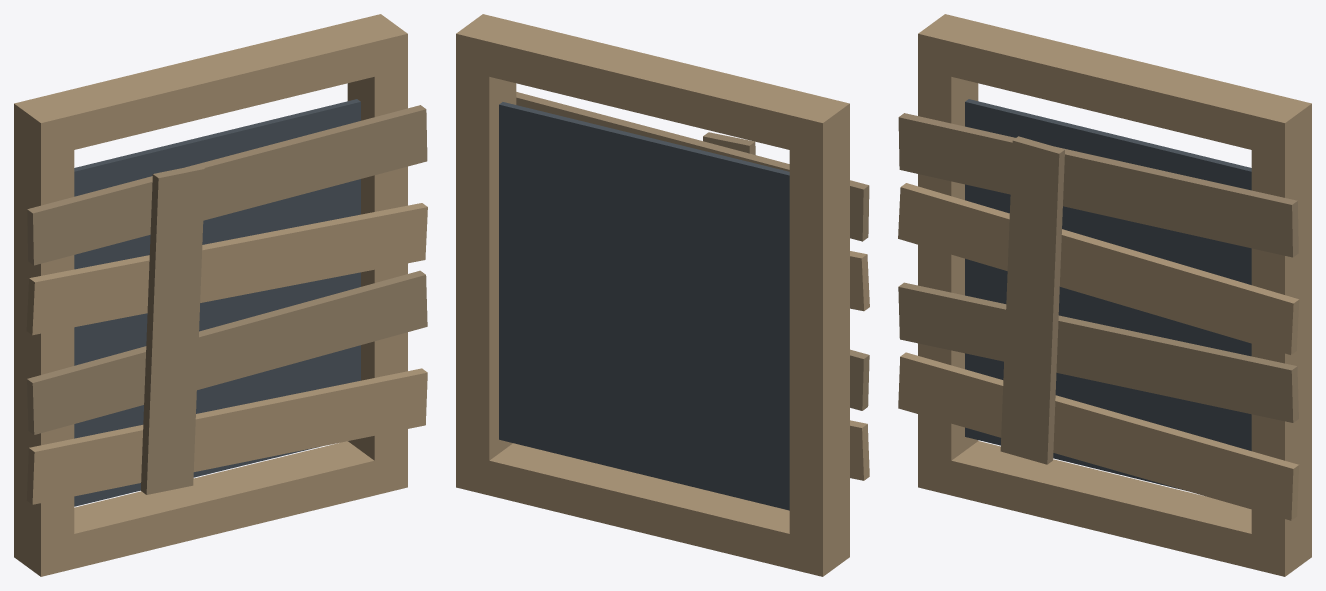
The model's file is dm_boardedwindow.glb.
3 renders of one model, left to right at view 1: azimuth 30°, elevation 25°; view 2: azimuth 150°, elevation 25°; view 3: azimuth 330°, elevation 25°, orthographic.
Visible parts, largest first — view 1: dm_boardedwindow; view 2: dm_boardedwindow; view 3: dm_boardedwindow.
Boxes of the visible parts, x1,y1,x2,y2 form: dm_boardedwindow: (14,14,427,576); dm_boardedwindow: (456,14,869,576); dm_boardedwindow: (898,14,1311,576).
Size of the model in its own units: 1.19 by 1.3 by 0.2.
